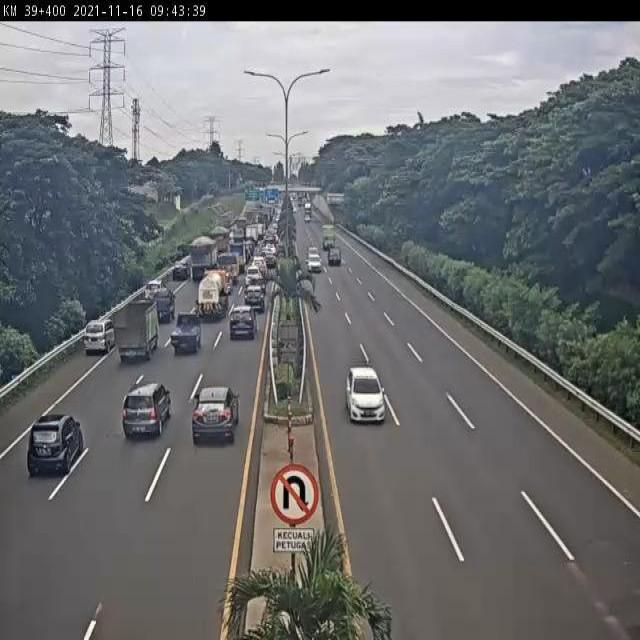car: (20, 411, 85, 484), (119, 378, 174, 442), (189, 381, 240, 448), (345, 362, 388, 427), (80, 313, 119, 359), (168, 311, 202, 356), (224, 306, 258, 346), (150, 291, 175, 324), (242, 285, 267, 316), (141, 281, 163, 307), (169, 260, 192, 283), (244, 263, 264, 285), (248, 275, 269, 293), (306, 252, 323, 273), (327, 245, 340, 267), (252, 253, 267, 272), (264, 251, 278, 268)
small truck: (108, 300, 161, 367), (195, 269, 232, 324), (215, 249, 242, 287)
truck-m-: (187, 233, 221, 284), (207, 225, 229, 258)
